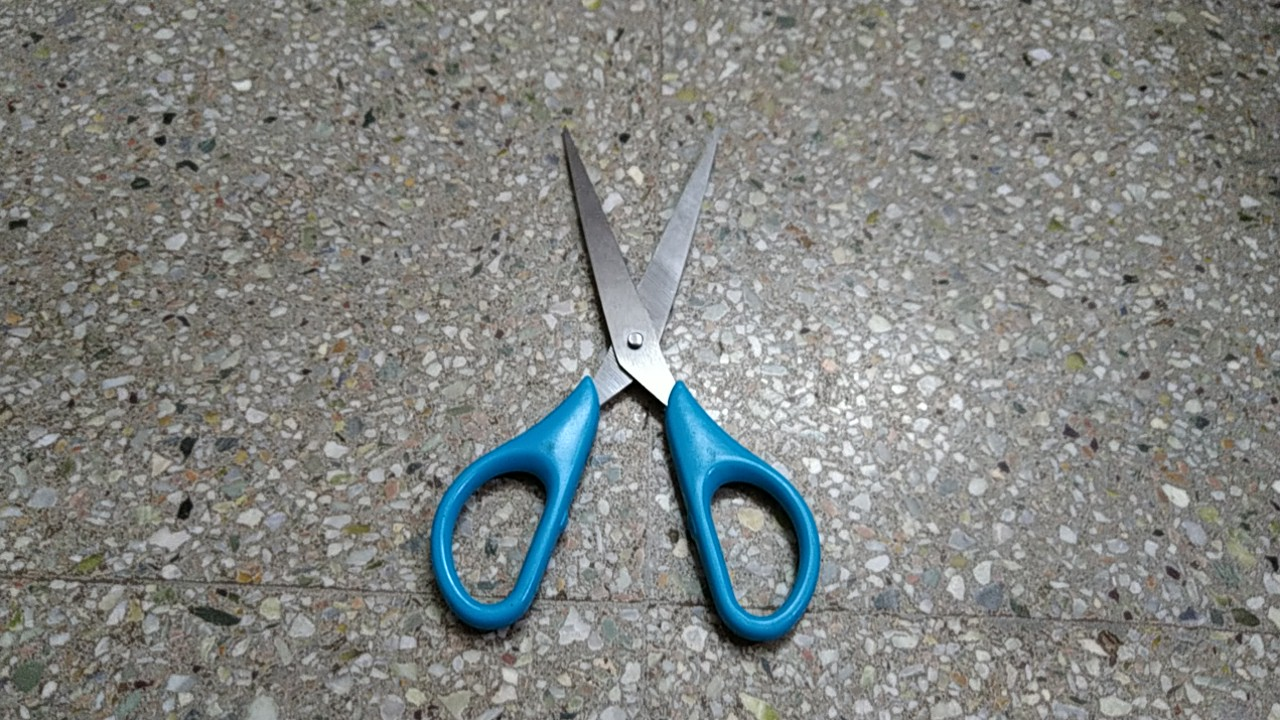scissor: (418, 112, 829, 669)
